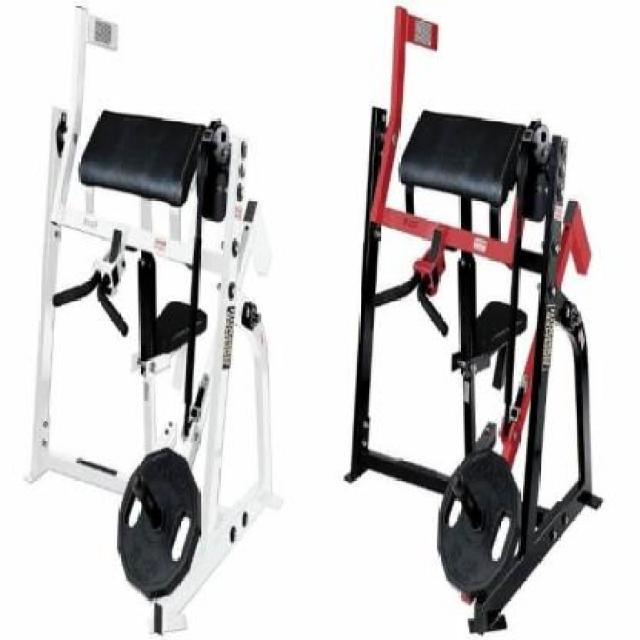arm curl machine: (24, 6, 284, 634), (346, 8, 603, 632)
